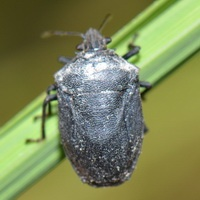insect: (37, 28, 150, 186)
